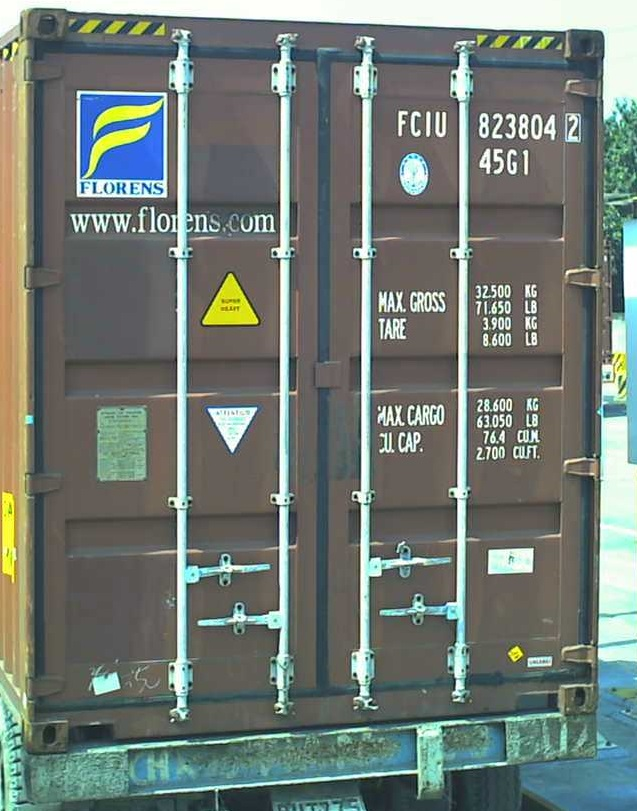container_door: (20, 6, 601, 749)
